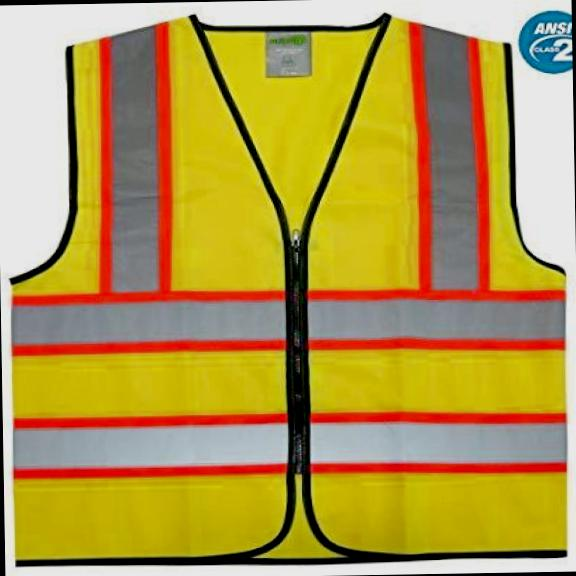safety_vest: (0, 7, 574, 573)
